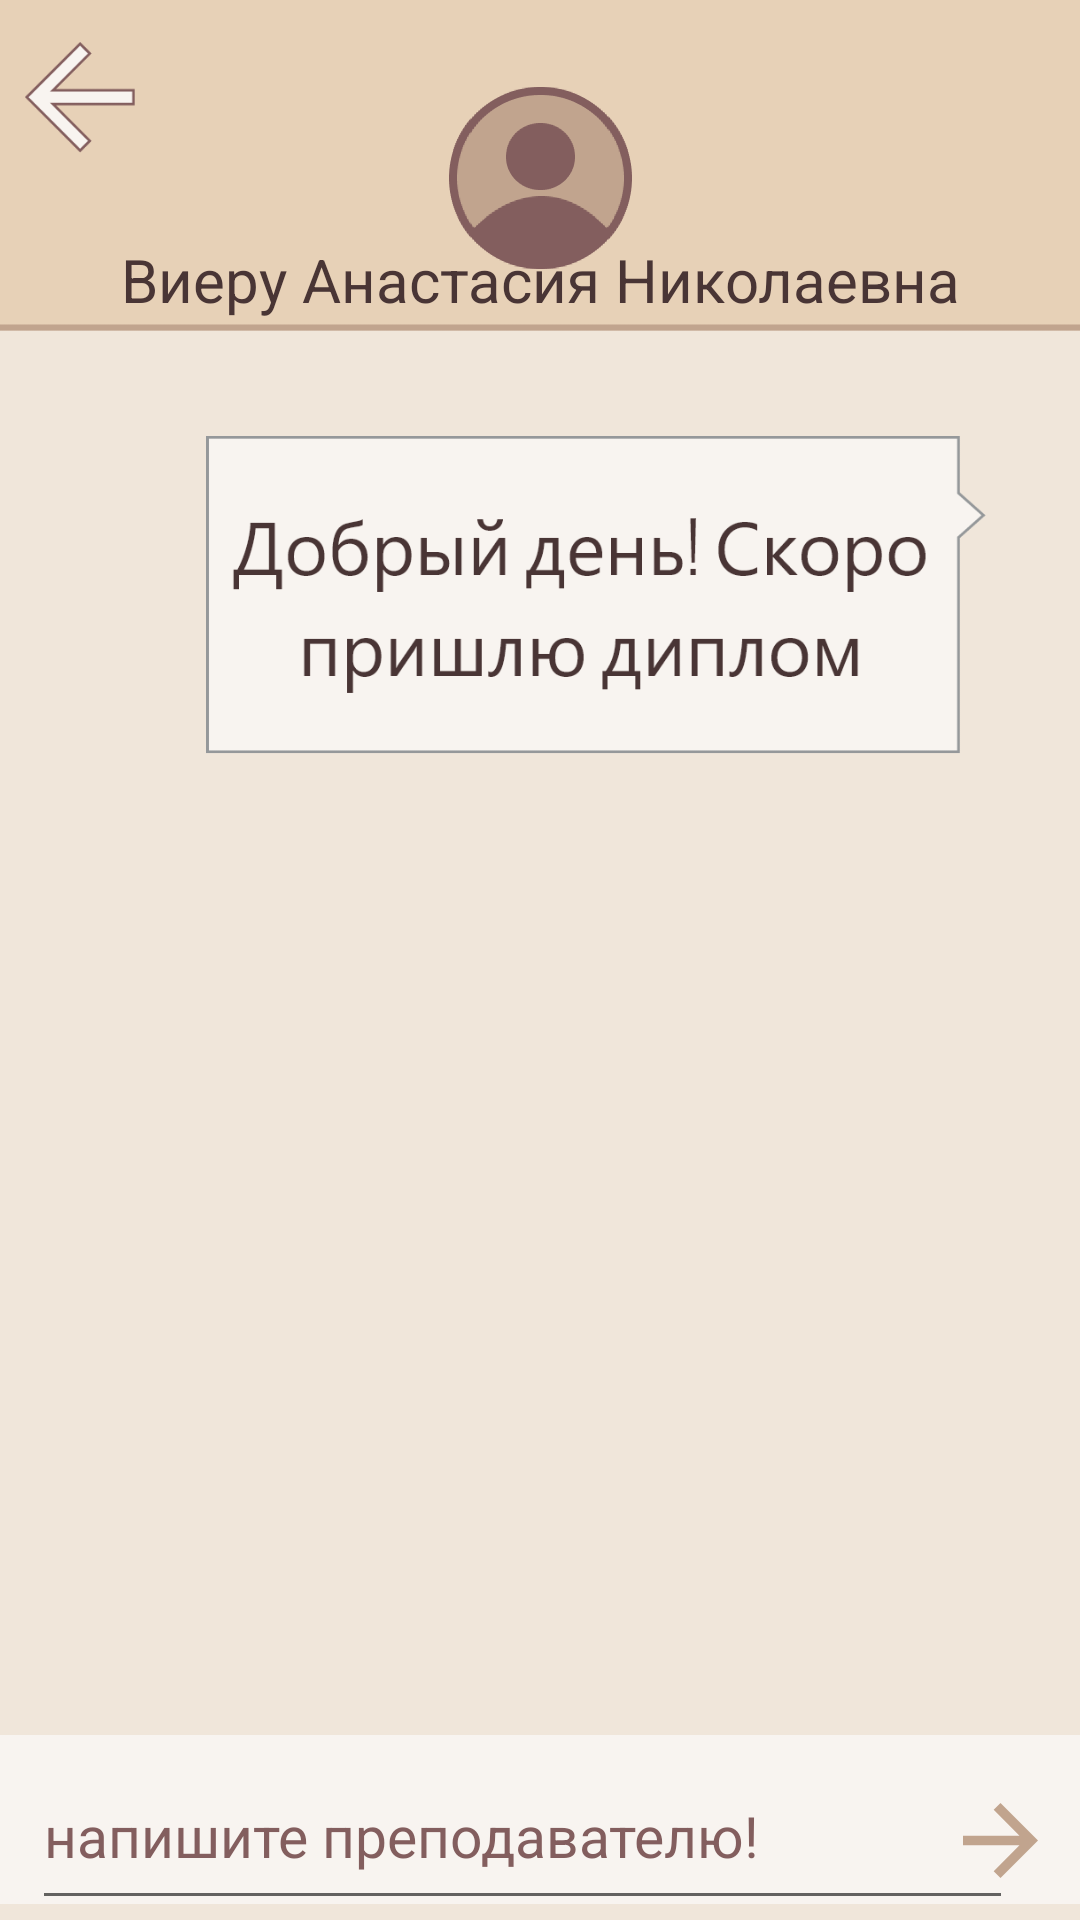

Locate icon controls on the screen. Image size 1080 × 1920, boxes as (x1, y1, x2, y2).
back: (25, 42, 135, 152)
